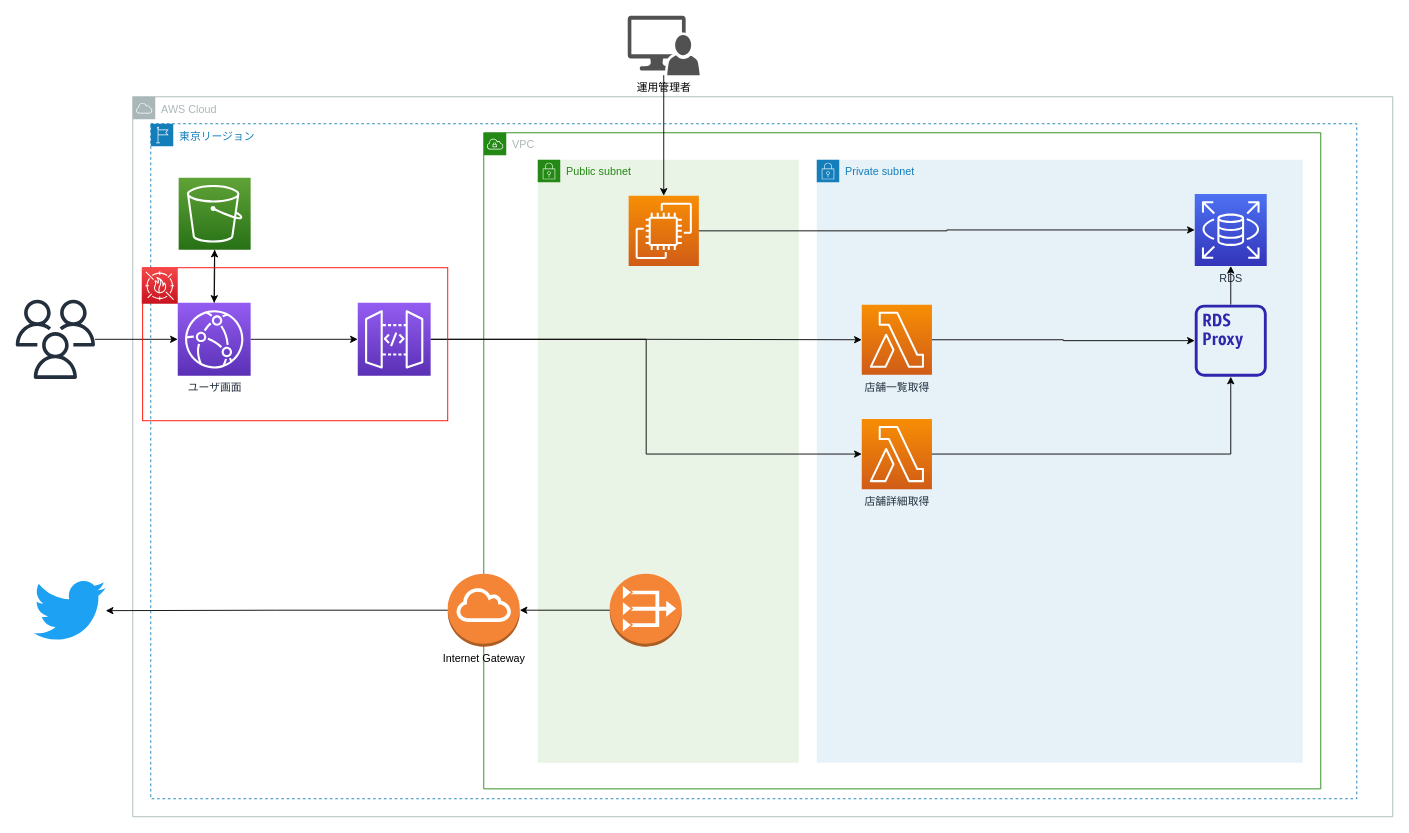
This 1409x833 diagram has some shape labels left out. Each missing label, with the centre of its shape:
"NAT Gateway" belongs at [645,610].
"Twitter" belongs at [69,610].
"Users" belongs at [54,338].
"内部用APIGateway" belongs at [394,339].
"踏み台用EC2" belongs at [663,230].
